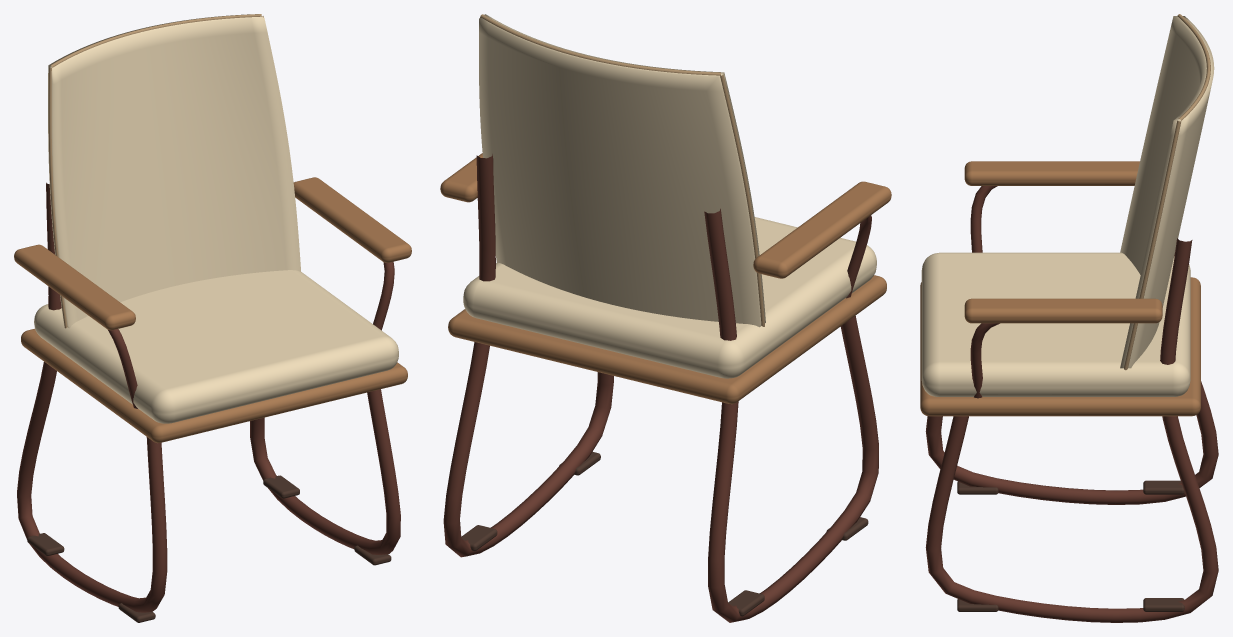
The model's file is chair.glb.
3 renders of one model, left to right at view 1: azimuth 30°, elevation 25°; view 2: azimuth 150°, elevation 25°; view 3: azimuth 270°, elevation 25°, orthographic. The views are drawn at different scales.
Visible parts, largest first — view 1: curved-plywood-back, seat-cushion, cantilever-frame--1, seat-plywood, cantilever-frame-1, armrest--1, armrest-1, back-piping--1, back-top-piping, arm-support-1, arm-support--1; view 2: curved-plywood-back, seat-cushion, cantilever-frame--1, seat-plywood, cantilever-frame-1, armrest--1, armrest-1, back-piping--1, back-top-piping, arm-support--1; view 3: seat-cushion, curved-plywood-back, cantilever-frame-1, seat-plywood, cantilever-frame--1, armrest-1, armrest--1, back-piping-1, arm-support-1, arm-support--1, glide--1--0.35, glide-1--0.35 (+1 smaller).
Boxes of the visible parts, <box> form: curved-plywood-back: <box>48,14,300,328</box>; seat-cushion: <box>34,270,398,423</box>; cantilever-frame--1: <box>17,182,167,612</box>; seat-plywood: <box>21,328,407,443</box>; cantilever-frame-1: <box>250,389,400,554</box>; armrest--1: <box>14,244,135,330</box>; armrest-1: <box>293,177,411,262</box>; back-piping--1: <box>48,67,67,328</box>; back-top-piping: <box>50,14,261,67</box>; arm-support-1: <box>373,261,394,330</box>; arm-support--1: <box>108,329,137,408</box>; curved-plywood-back: <box>479,14,765,327</box>; seat-cushion: <box>463,217,876,378</box>; cantilever-frame--1: <box>704,208,878,622</box>; seat-plywood: <box>448,275,886,404</box>; cantilever-frame-1: <box>443,154,613,557</box>; armrest--1: <box>753,181,891,278</box>; armrest-1: <box>440,153,482,202</box>; back-piping--1: <box>720,75,764,326</box>; back-top-piping: <box>480,14,720,75</box>; arm-support--1: <box>846,215,871,298</box>; seat-cushion: <box>921,252,1190,396</box>; curved-plywood-back: <box>1120,16,1214,368</box>; cantilever-frame-1: <box>925,238,1218,622</box>; seat-plywood: <box>920,277,1200,416</box>; cantilever-frame--1: <box>925,253,1218,504</box>; armrest-1: <box>964,298,1162,323</box>; armrest--1: <box>964,161,1139,185</box>; back-piping-1: <box>1124,120,1181,370</box>; arm-support-1: <box>970,323,999,398</box>; arm-support--1: <box>970,186,997,252</box>; glide--1--0.35: <box>1143,480,1184,494</box>; glide-1--0.35: <box>1143,598,1184,611</box>.
Size of the model in its own units: 1.22 by 1.86 by 1.01.
